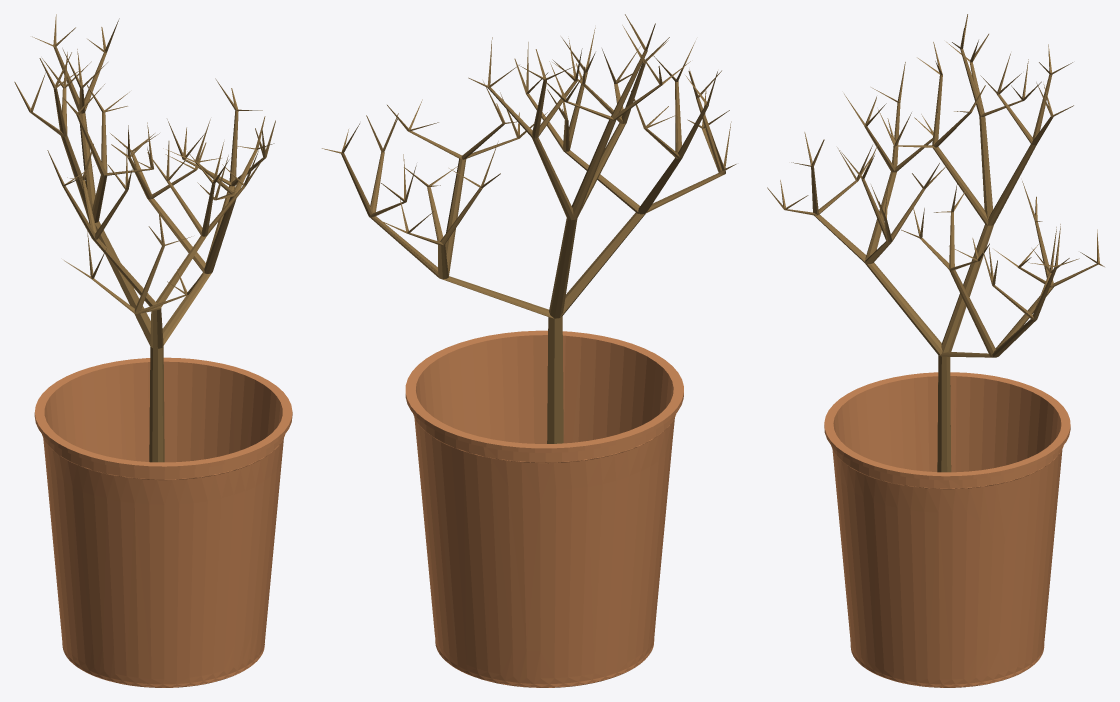
Rendered from potted_tree_1.glb.
3 views of the same model, side by side, from view 1: azimuth 30°, elevation 25°; view 2: azimuth 150°, elevation 25°; view 3: azimuth 270°, elevation 25° (orthographic). The views are drawn at different scales.
Parts seen in each view (by area): view 1: Mesh_Mesh_head_geo.001_lambert2SG.001; view 2: Mesh_Mesh_head_geo.001_lambert2SG.001; view 3: Mesh_Mesh_head_geo.001_lambert2SG.001.
Boxes of the visible parts, <box> form: Mesh_Mesh_head_geo.001_lambert2SG.001: <box>14,14,292,687</box>; Mesh_Mesh_head_geo.001_lambert2SG.001: <box>322,14,736,687</box>; Mesh_Mesh_head_geo.001_lambert2SG.001: <box>767,14,1104,687</box>.
Size of the model in its own units: 2.52 by 5.2 by 2.75.
